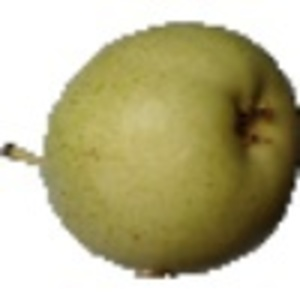pera: (1, 20, 300, 281)
